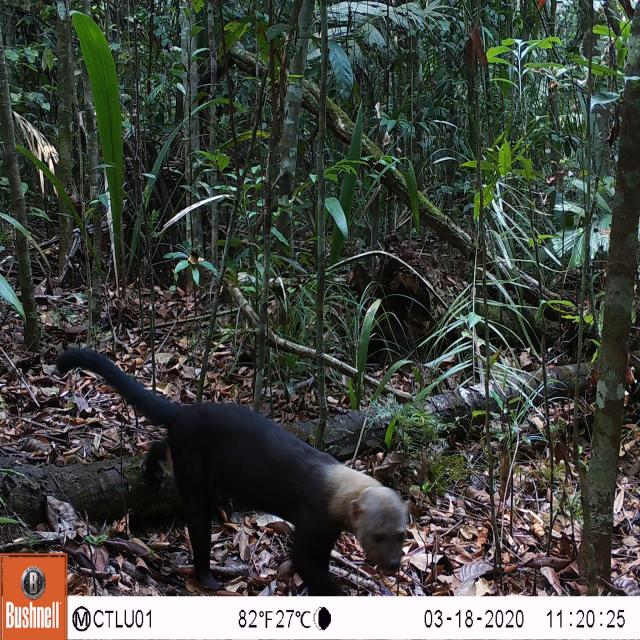Tayra: (52, 345, 413, 597)
